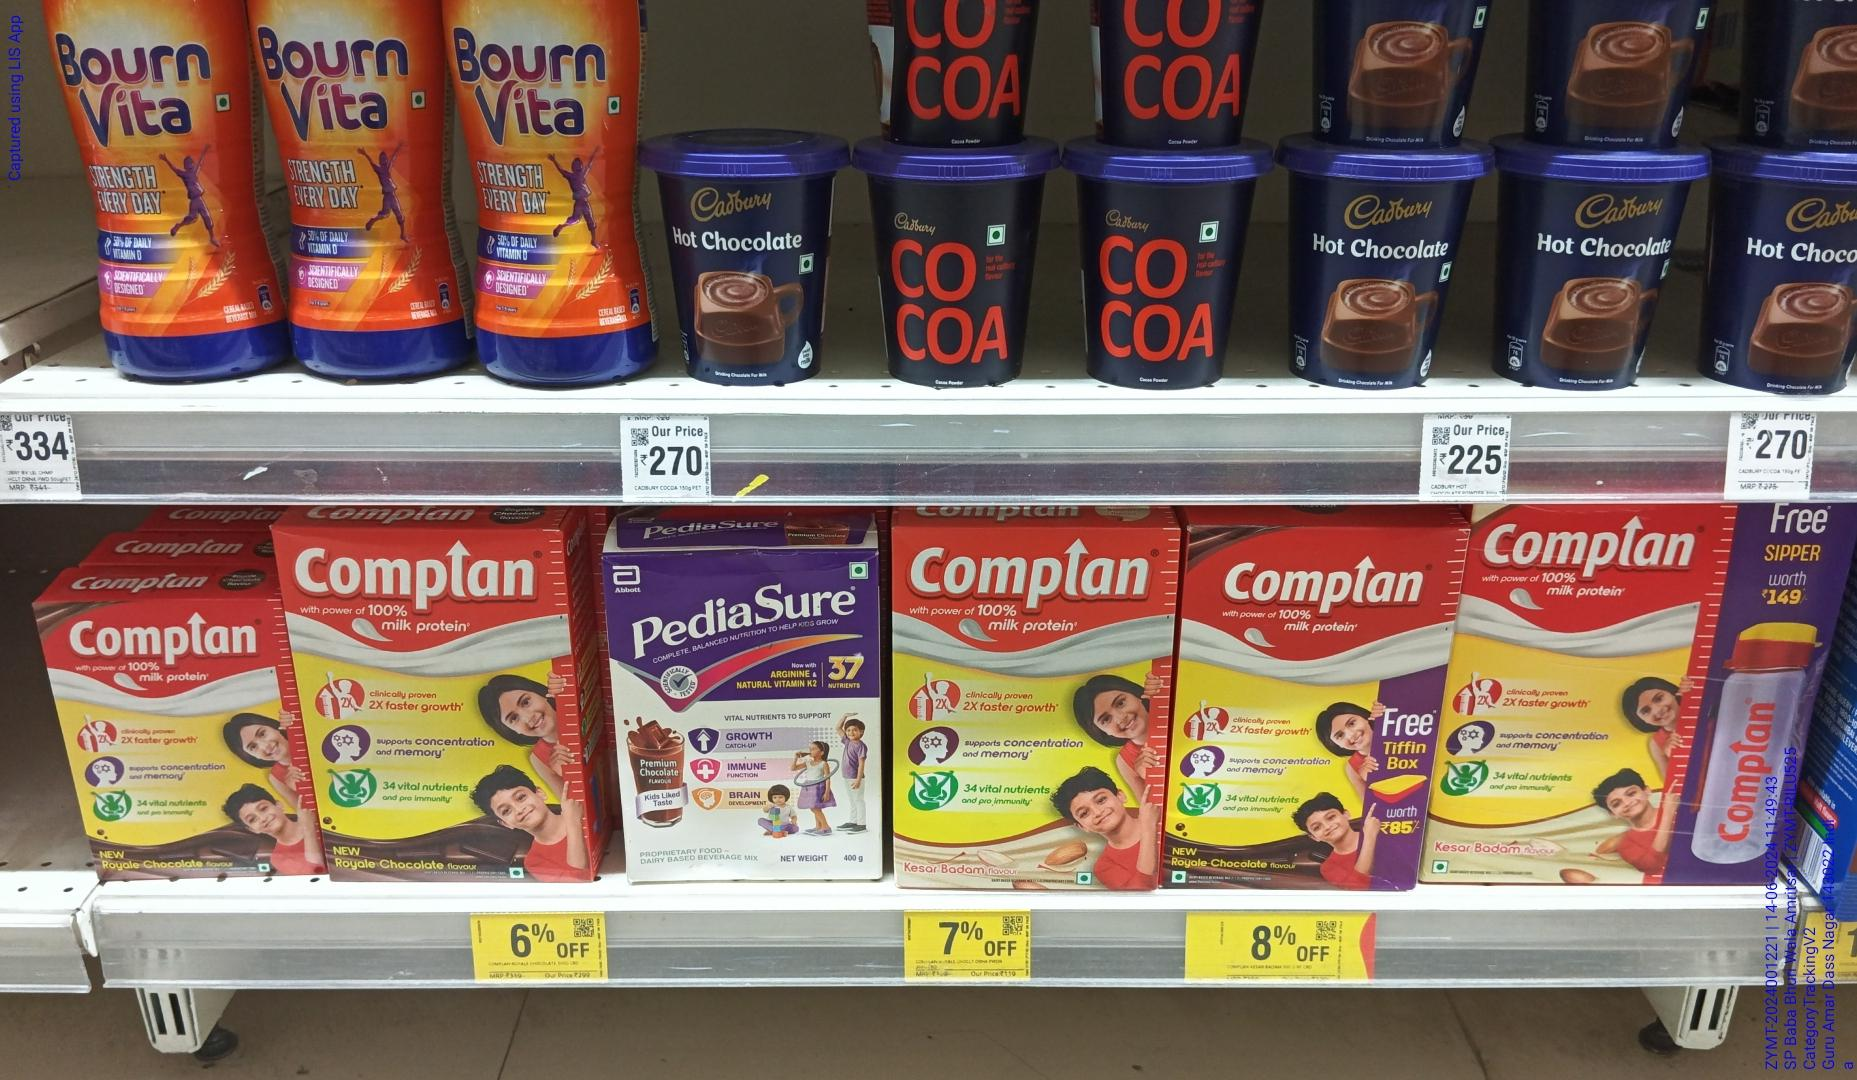BOURN_VITA_500_G_JAR: (60, 0, 263, 387), (460, 0, 652, 384), (272, 5, 446, 374)
COMPLAN_CHOCOLATE_200_GMS_PACK: (36, 595, 276, 877)
COMPLAN_CHOCOLATE_500_GMS_PACK: (297, 527, 582, 885), (1171, 528, 1425, 891)
COMPLAN_KESAR_BADAM_500_GMS_PACK: (1451, 503, 1785, 886), (892, 523, 1166, 892)
